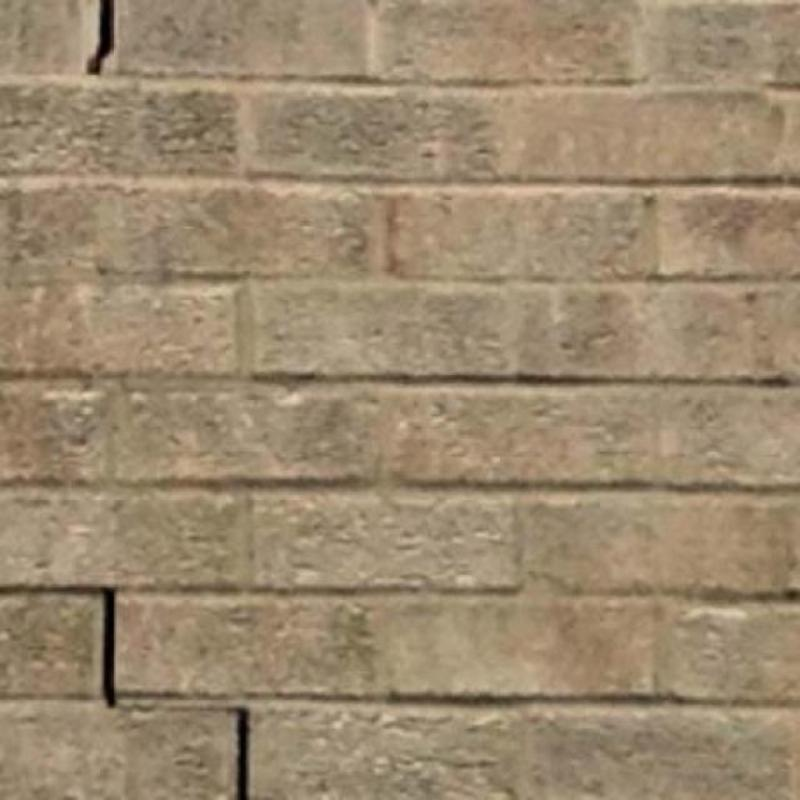pothole: (0, 587, 117, 708), (90, 0, 114, 73), (237, 707, 250, 799)
